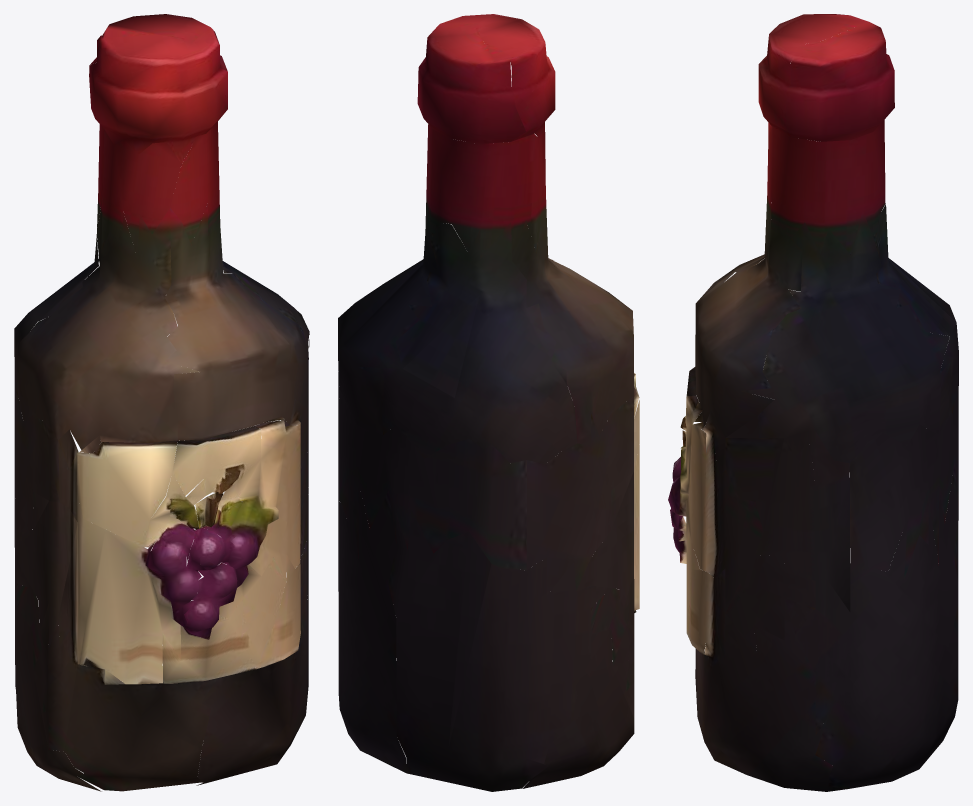
The model's file is wine.glb.
3 views of the same model, side by side, from view 1: azimuth 30°, elevation 25°; view 2: azimuth 150°, elevation 25°; view 3: azimuth 270°, elevation 25° (orthographic).
Visible parts, largest first — view 1: item; view 2: item; view 3: item.
Part boxes in pixels (left/top/right/bottom): item: left=14, top=14, right=309, bottom=791; item: left=338, top=14, right=639, bottom=791; item: left=668, top=14, right=958, bottom=791.
Size of the model in its own units: 0.1195 by 0.3003 by 0.1139.
1 material, 1 textured.
